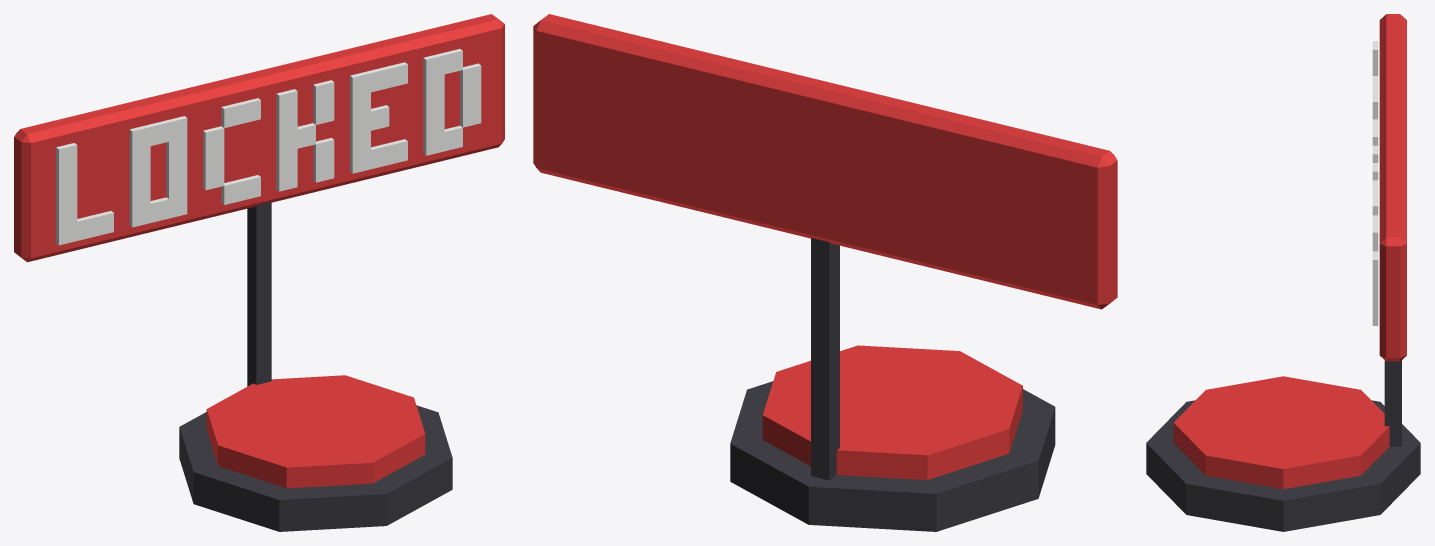
Rendered from BuyButtonLocked.fbx.
3 renders of one model, left to right at view 1: azimuth 30°, elevation 25°; view 2: azimuth 150°, elevation 25°; view 3: azimuth 270°, elevation 25°, orthographic. The views are drawn at different scales.
Parts seen in each view (by area): view 1: BuyButtonLocked, BuyButtonLocked_Button; view 2: BuyButtonLocked, BuyButtonLocked_Button; view 3: BuyButtonLocked, BuyButtonLocked_Button.
Boxes of the visible parts, left/top/right/bottom form: BuyButtonLocked: left=14, top=14, right=504, bottom=531; BuyButtonLocked_Button: left=206, top=375, right=425, bottom=488; BuyButtonLocked: left=533, top=14, right=1117, bottom=531; BuyButtonLocked_Button: left=762, top=345, right=1022, bottom=479; BuyButtonLocked: left=1146, top=14, right=1420, bottom=531; BuyButtonLocked_Button: left=1173, top=376, right=1389, bottom=489.
Bounding box in the file's own units: 7.9 × 5.6 × 4.
Materials: 1 (1 with a texture image).
